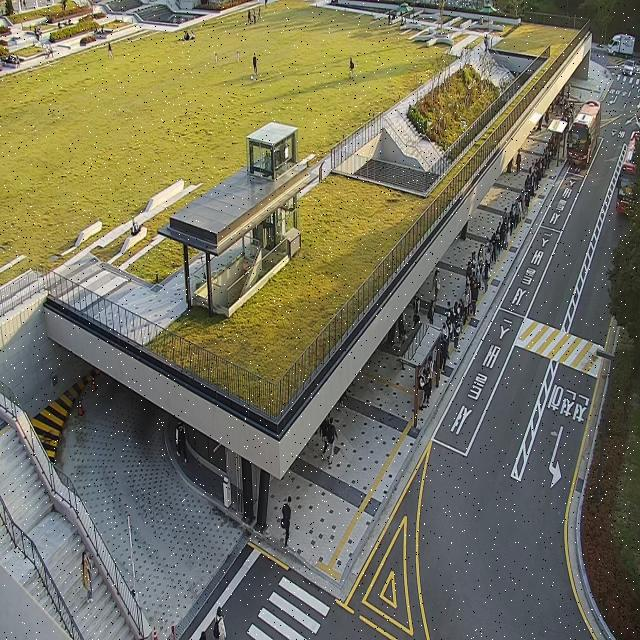queue: (414, 97, 576, 431)
